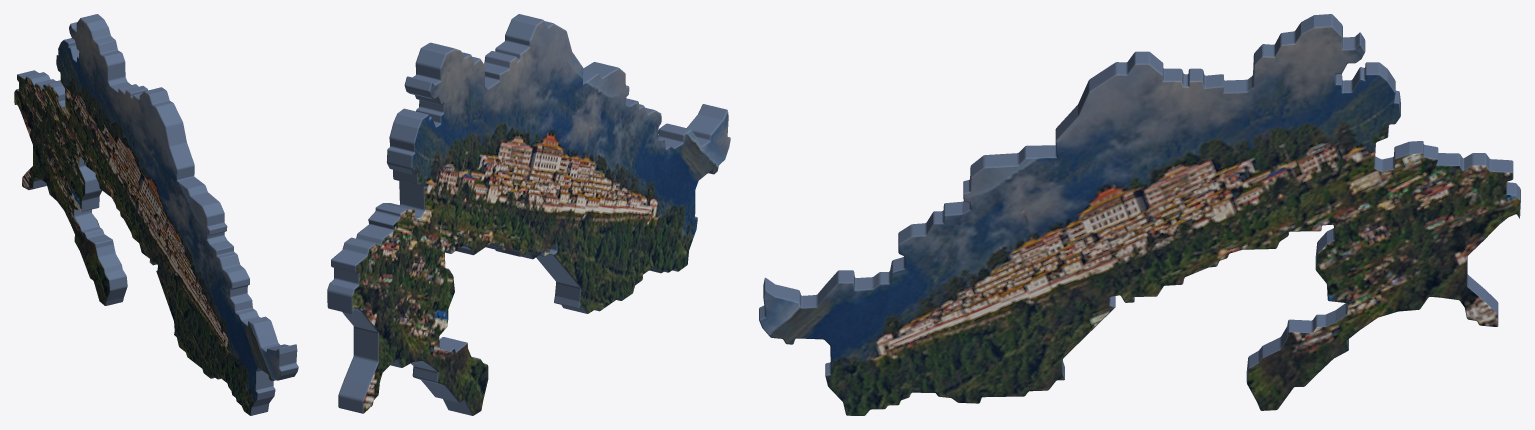
Rendered from arunachal pradesh.glb.
3 renders of one model, left to right at view 1: azimuth 30°, elevation 25°; view 2: azimuth 150°, elevation 25°; view 3: azimuth 270°, elevation 25°, orthographic. The views are drawn at different scales.
Visible parts, largest first — view 1: Object_52; view 2: Object_52; view 3: Object_52.
Part boxes in pixels (x1,y1,x2,y2): Object_52: (14,14,298,415); Object_52: (327,14,730,415); Object_52: (759,14,1520,415).
Bounding box in the file's own units: 0.0357 × 0.466 × 0.824.
Materials: 1 (1 with a texture image).
